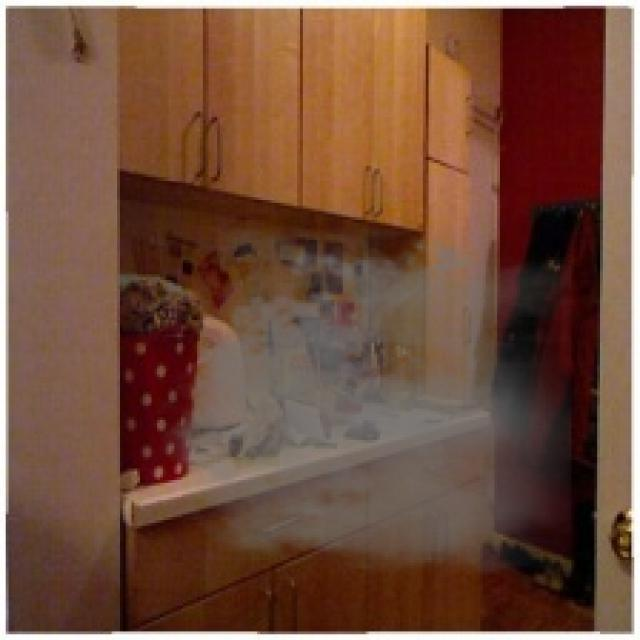Smoke: (148, 228, 572, 574)
